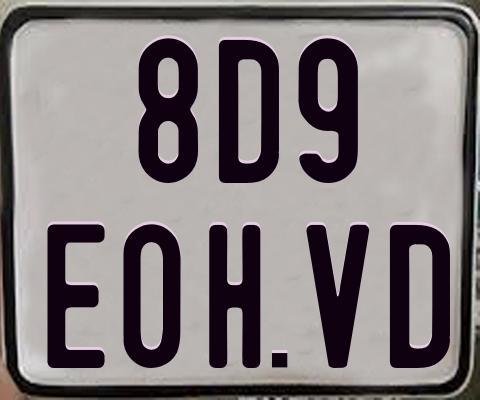0: (120, 224, 180, 372)
8: (135, 38, 201, 183)
9: (298, 38, 363, 183)
D: (219, 39, 285, 184), (389, 224, 449, 371)
E: (45, 221, 104, 368)
H: (209, 225, 264, 369)
V: (305, 224, 370, 372)
